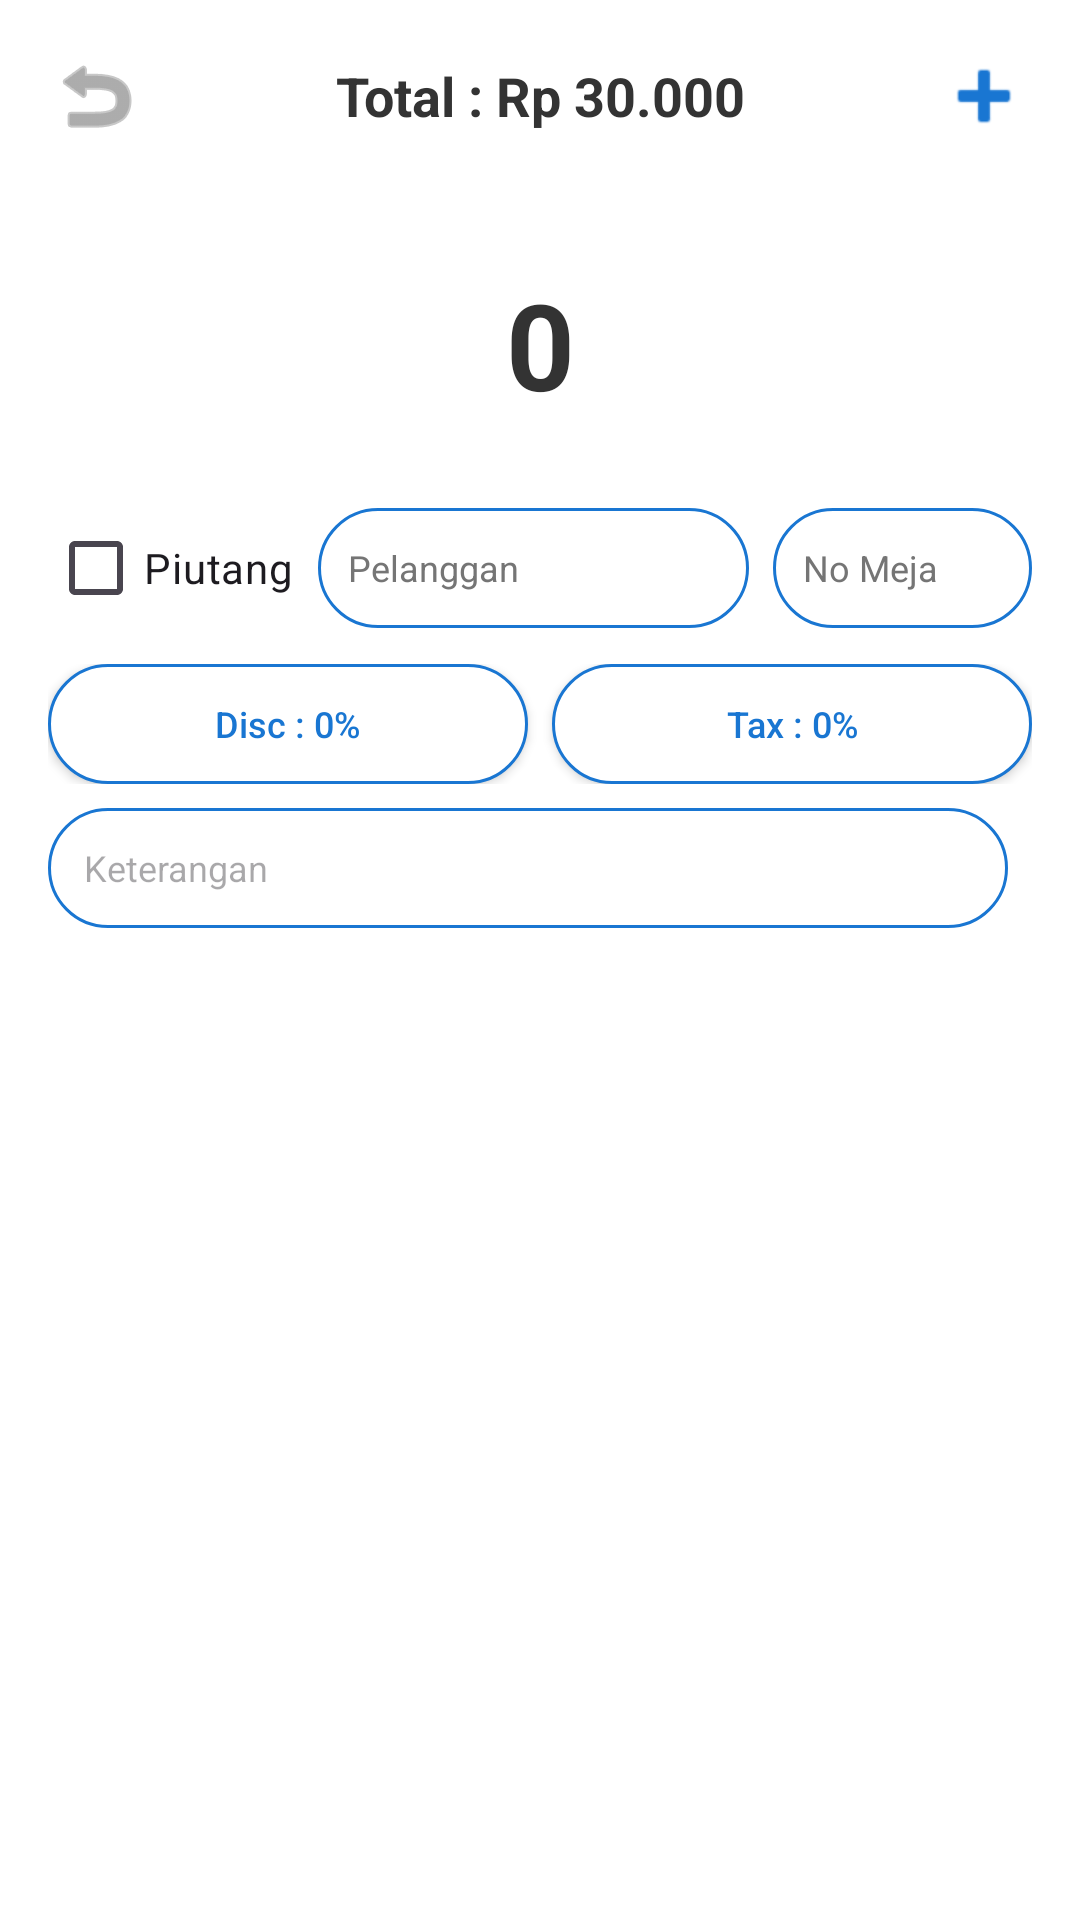

Icons on this 1080w x 1920h Android screen, each with its box as (x1, y1, x2, y2):
add: (957, 69, 1011, 123)
revert: (63, 66, 132, 128)
